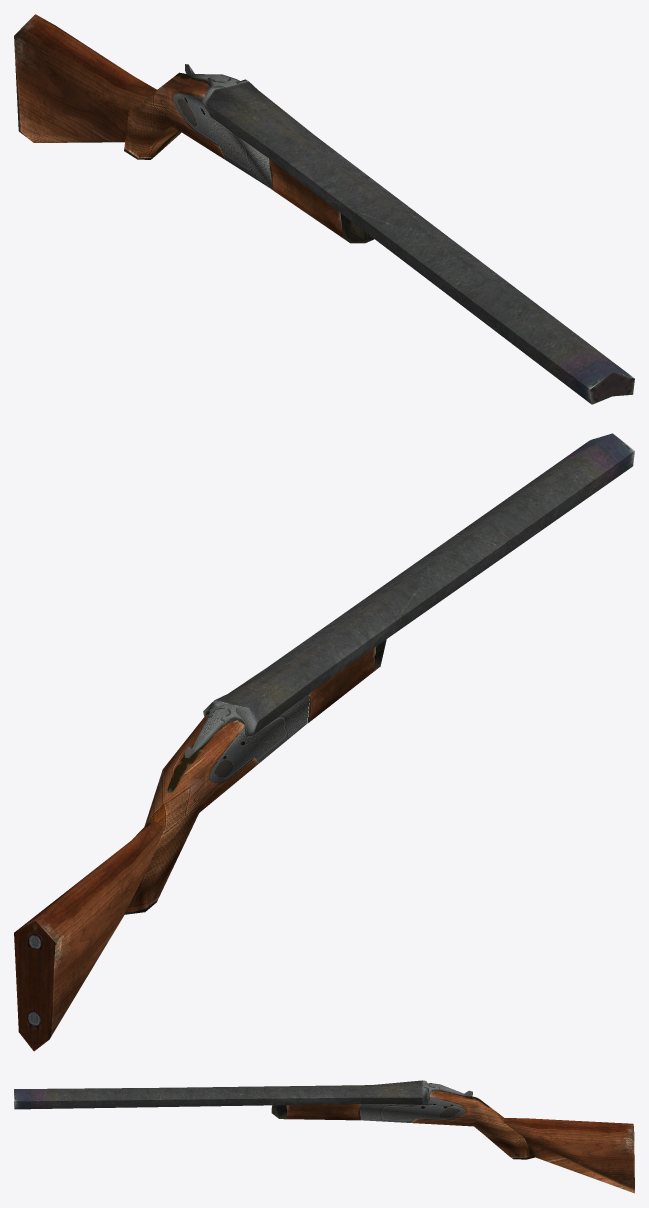
Rendered from Shotgun_sdq_05_lod2_Body_LOD_(000448).glb.
The picture shows the model from 3 angles, top to bottom: view 1: azimuth 30°, elevation 25°; view 2: azimuth 150°, elevation 25°; view 3: azimuth 270°, elevation 25°; orthographic projection. The views are drawn at different scales.
Visible parts, largest first — view 1: sdq_05_lod2; view 2: sdq_05_lod2; view 3: sdq_05_lod2.
Part boxes in pixels (x1,y1,x2,y2): sdq_05_lod2: (14,14,634,404); sdq_05_lod2: (14,433,634,1051); sdq_05_lod2: (14,1080,634,1193).
Size of the model in its own units: 0.0795 by 0.292 by 1.51.
1 material, 1 textured.
